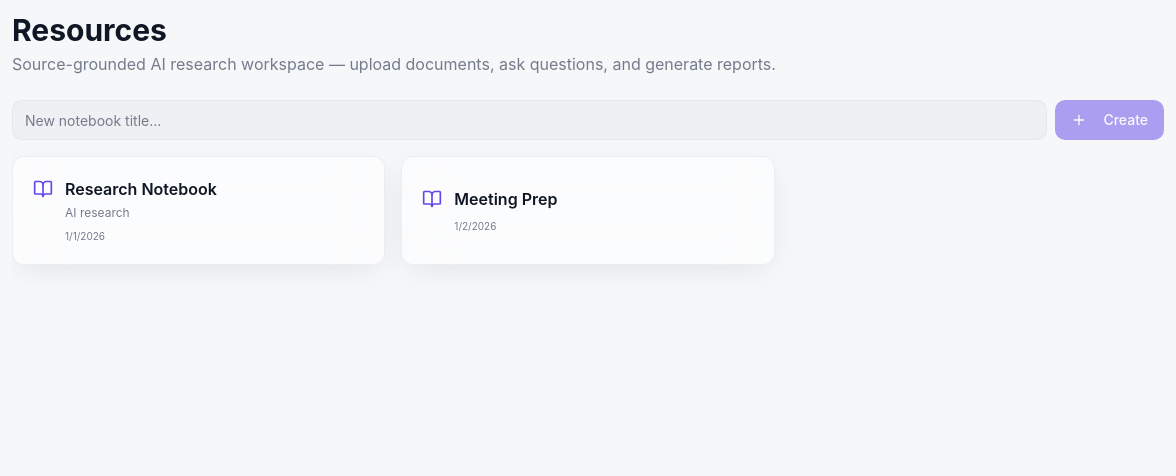
ResourcesView – Notebook List › navigates to notebook detail on click
Click the heading "Research Notebook" at [141, 189], box [65,177,217,201]
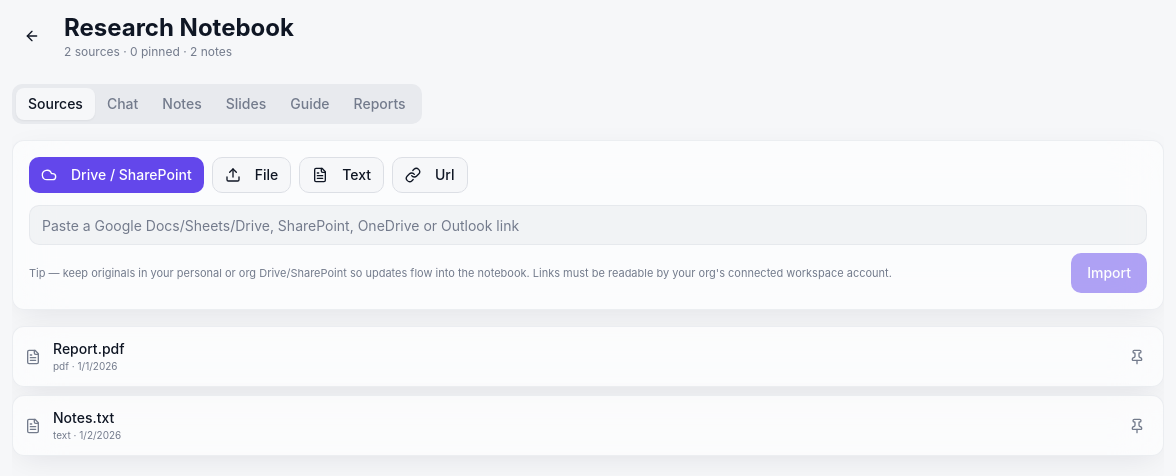
expect the element showing "Sources Chat Notes Slides Guide Reports" is shown: met, box [12,84,422,124]
